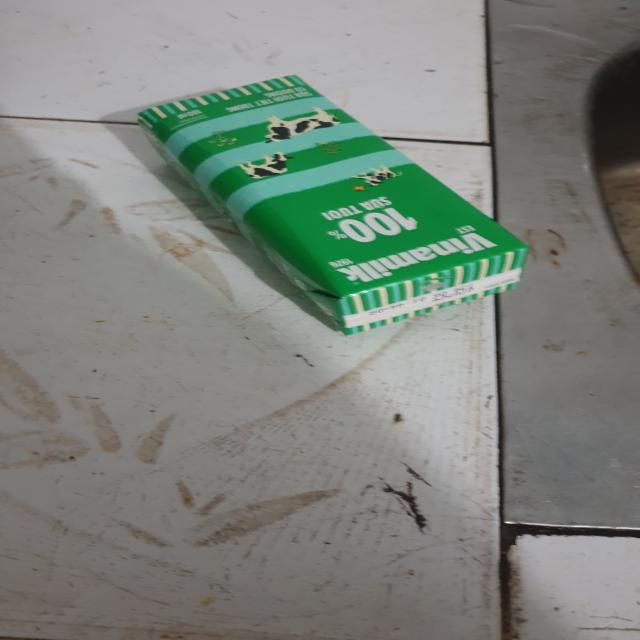Vina: (130, 73, 535, 337)
